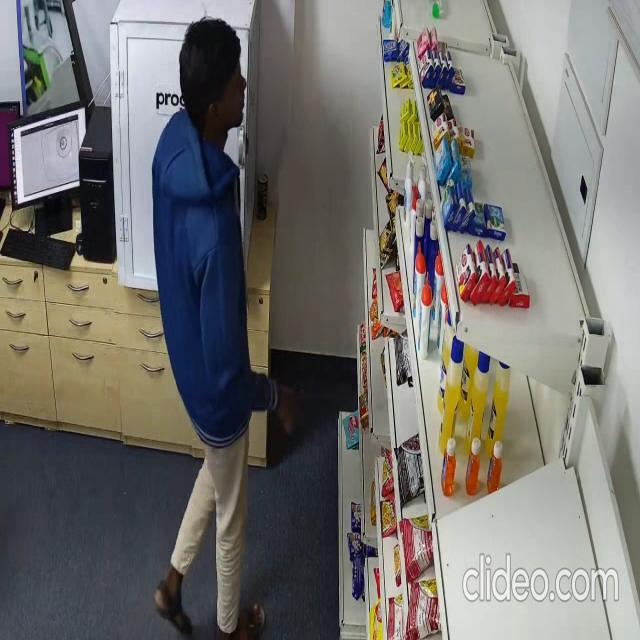normal: (148, 15, 302, 640)
